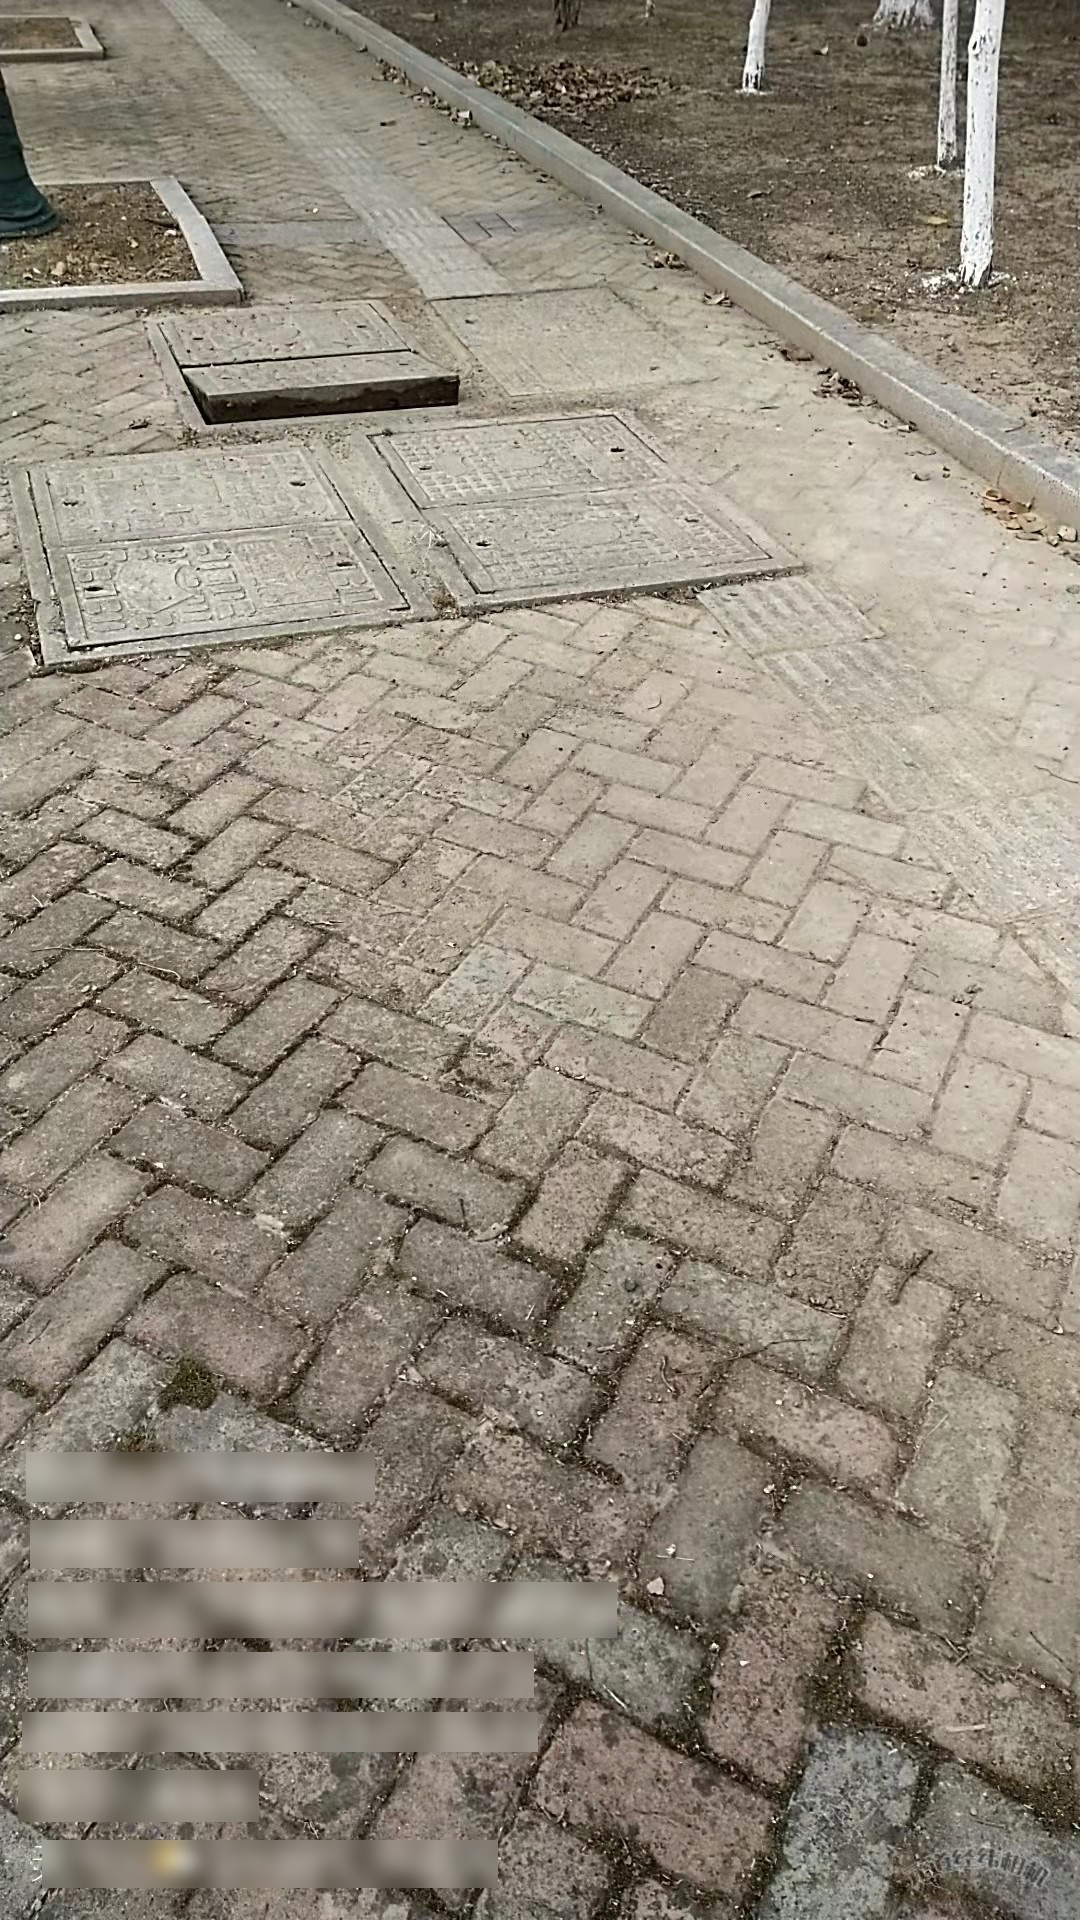good: (3, 404, 807, 671)
uncovered: (141, 294, 463, 425)
